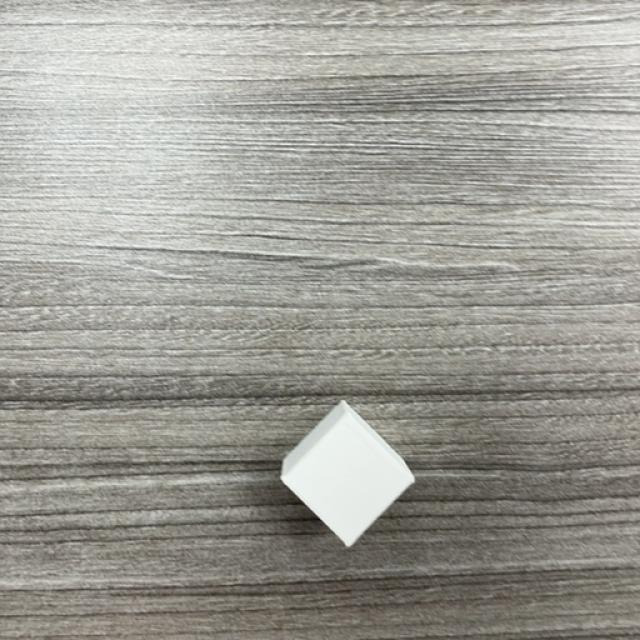Blanco: (279, 402, 415, 550)
